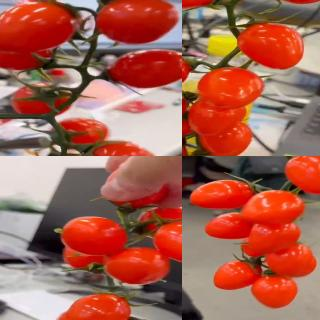tomato: (0, 1, 76, 53), (95, 0, 178, 44), (237, 20, 304, 71), (106, 47, 182, 88), (197, 65, 266, 107), (99, 167, 166, 210), (60, 218, 129, 258), (104, 246, 170, 284), (11, 84, 78, 121), (240, 190, 304, 227), (52, 117, 112, 156), (188, 179, 256, 212), (242, 218, 301, 256), (188, 98, 248, 134), (0, 26, 47, 69), (199, 120, 252, 156), (266, 242, 318, 278), (62, 293, 131, 320), (252, 274, 300, 309), (211, 260, 263, 291), (203, 211, 254, 240), (154, 220, 182, 265), (285, 156, 320, 192), (87, 141, 162, 156), (182, 107, 209, 136)
